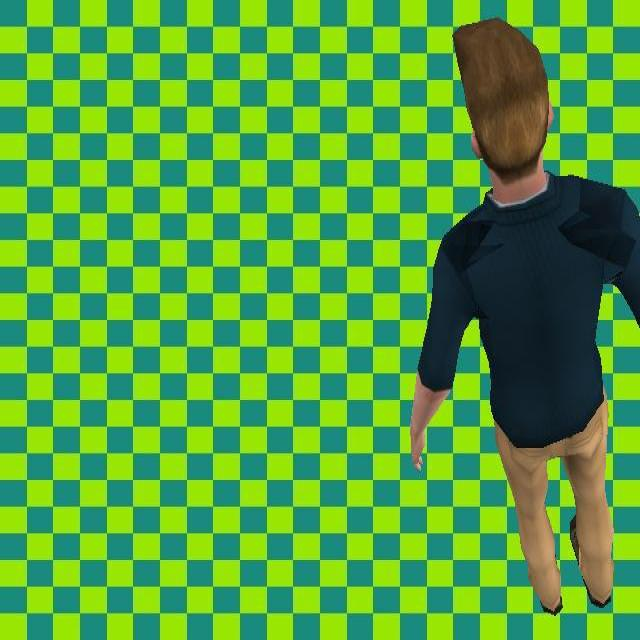obstacle: (411, 15, 640, 617)
